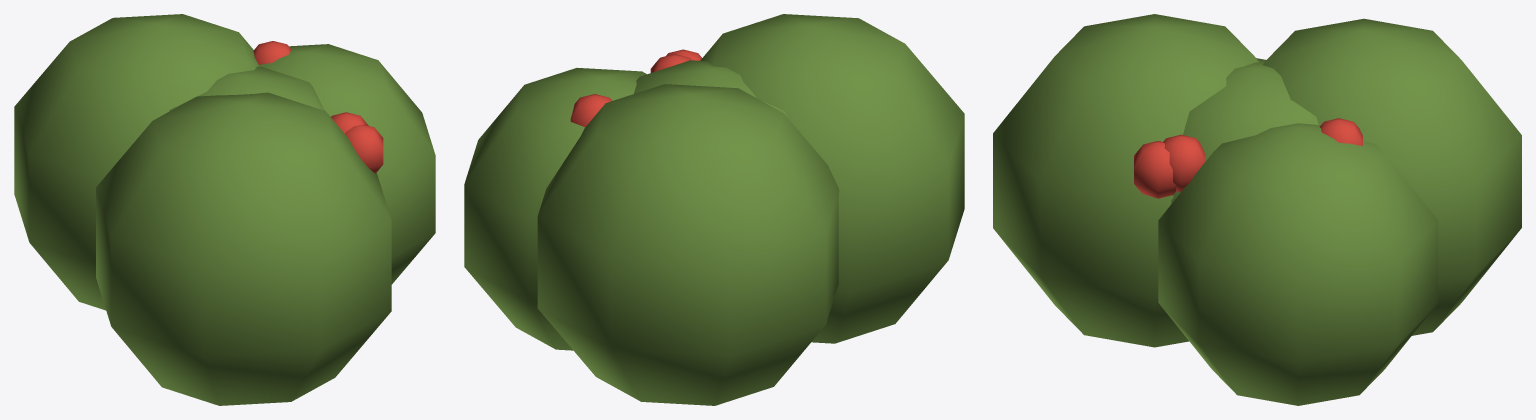
Rendered from prop_bush5_5ac2.glb.
3 views of the same model, side by side, from view 1: azimuth 30°, elevation 25°; view 2: azimuth 150°, elevation 25°; view 3: azimuth 270°, elevation 25° (orthographic). The views are drawn at different scales.
Visible parts, largest first — view 1: prop_bush5_5ac2; view 2: prop_bush5_5ac2; view 3: prop_bush5_5ac2.
Boxes of the visible parts, x1,y1,x2,y2 form: prop_bush5_5ac2: [14, 14, 435, 405]; prop_bush5_5ac2: [464, 14, 964, 405]; prop_bush5_5ac2: [993, 14, 1521, 405].
Bounding box in the file's own units: 0.624 × 0.4634 × 0.7143.
Materials: 1 (1 with a texture image).
